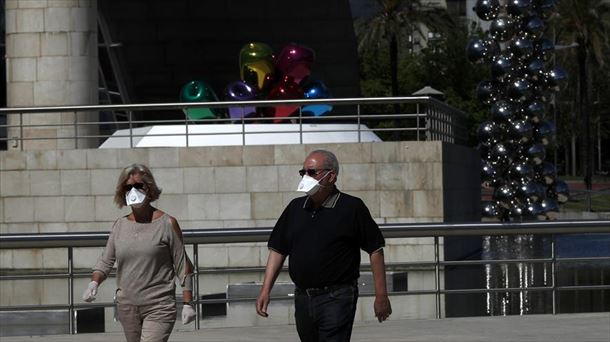with_mask: (292, 145, 345, 203), (111, 165, 166, 217)
